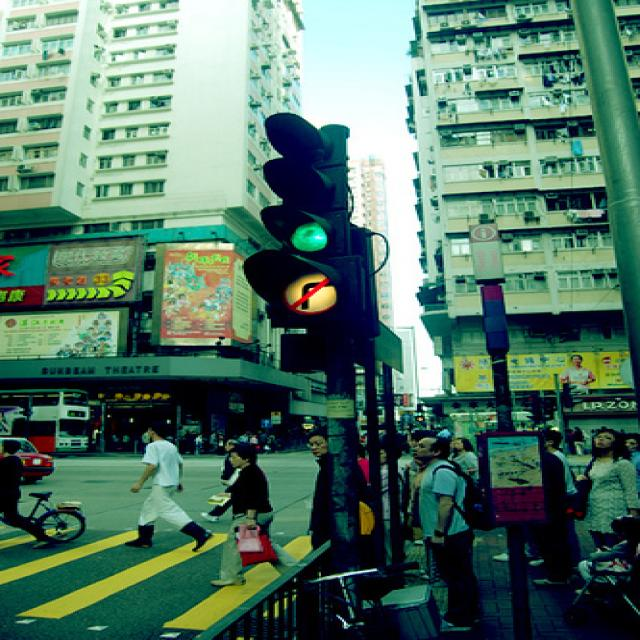Vehicle: (1, 389, 90, 455), (0, 438, 54, 484)
